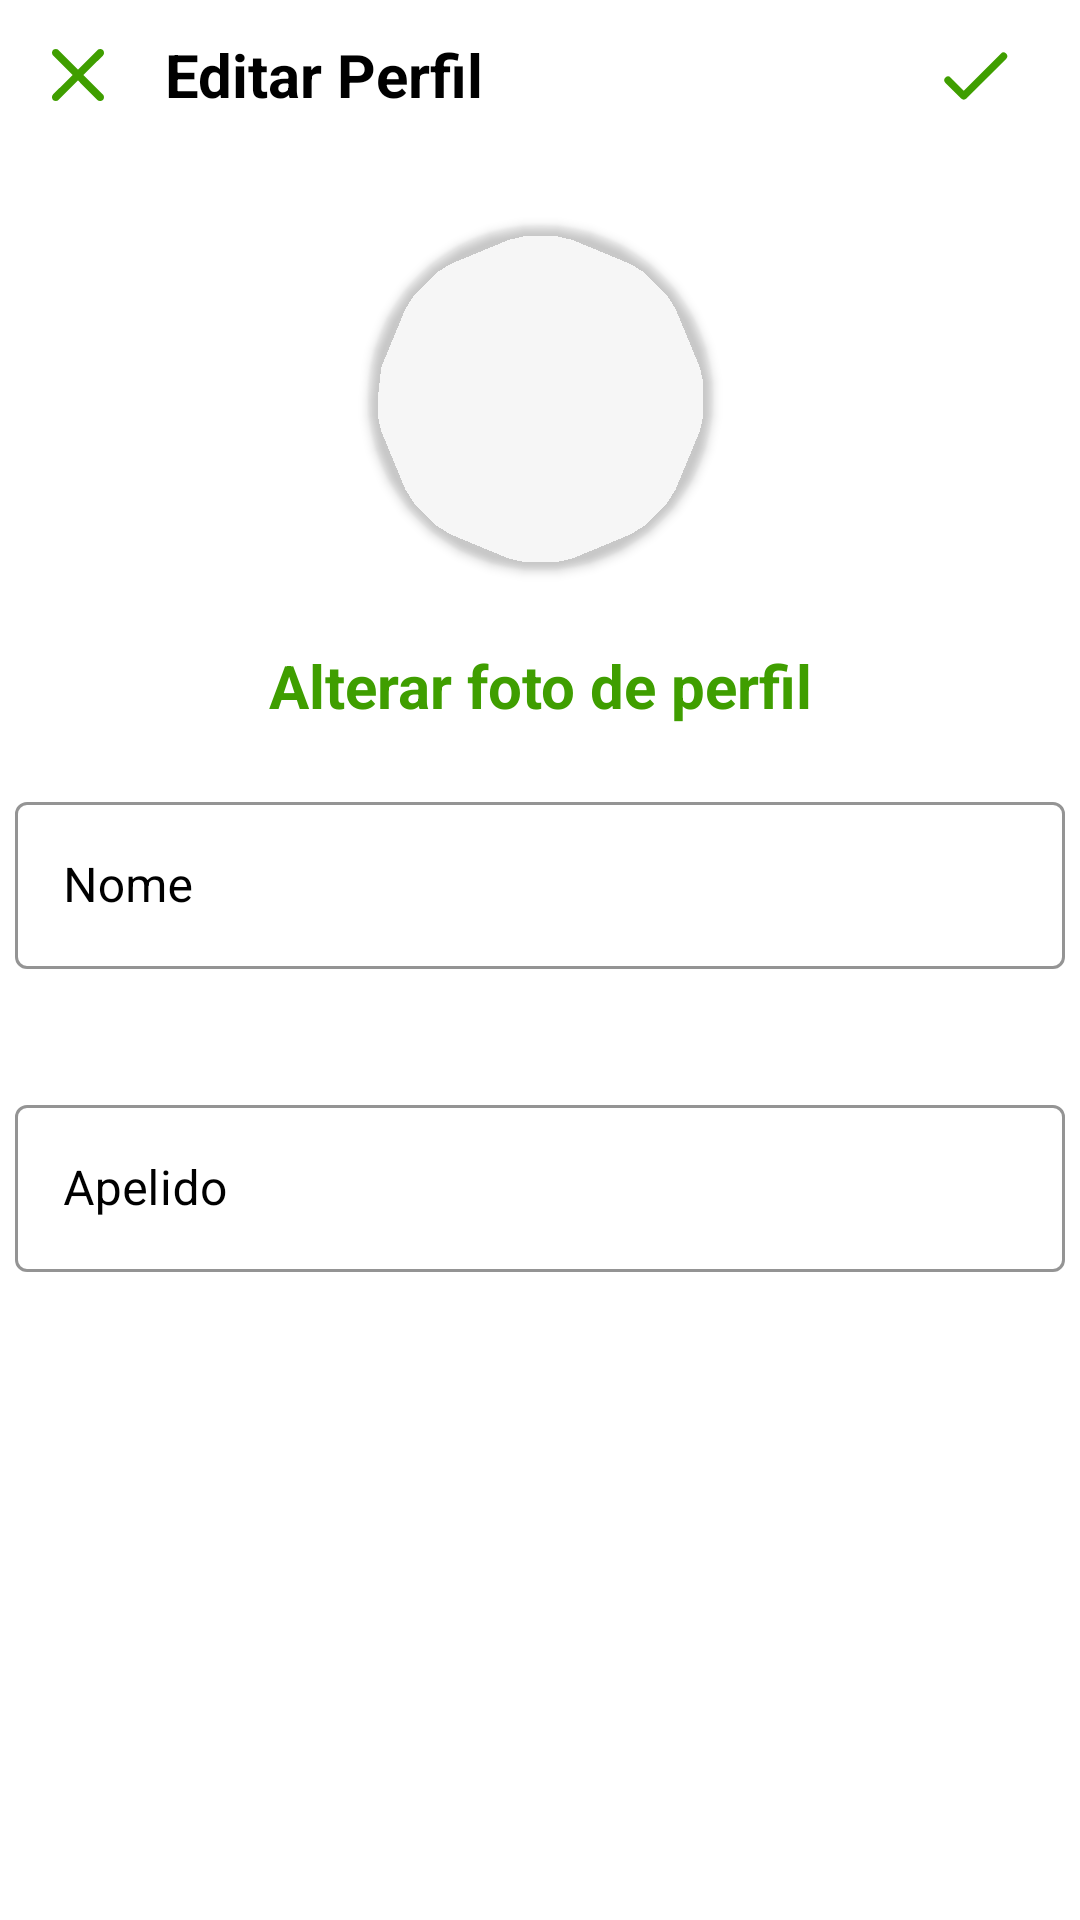

Where icons sit on this 1080 x 1920 app screen, as (x1, y1, x2, y2):
check: (944, 52, 1008, 100)
cross: (52, 49, 104, 101)
